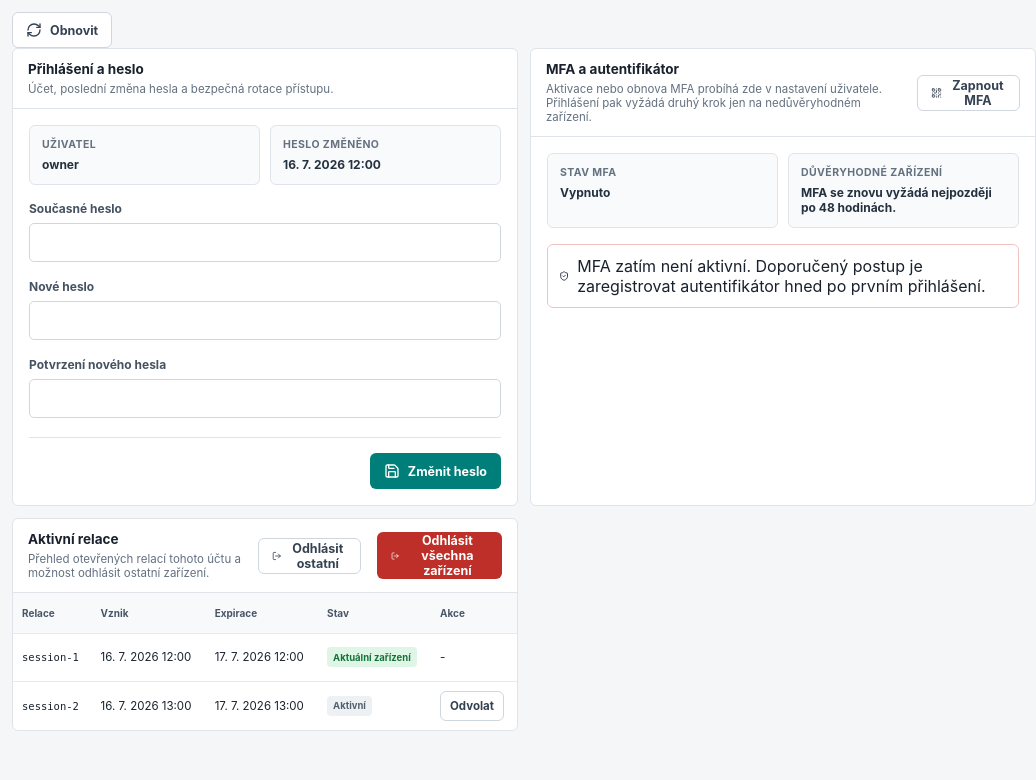
Test: admin pages › shows feedback when revoke-all sessions fails
Step 1. Click the button "Odhlásit všechna zařízení" → [439, 556], box [376,532,502,579]
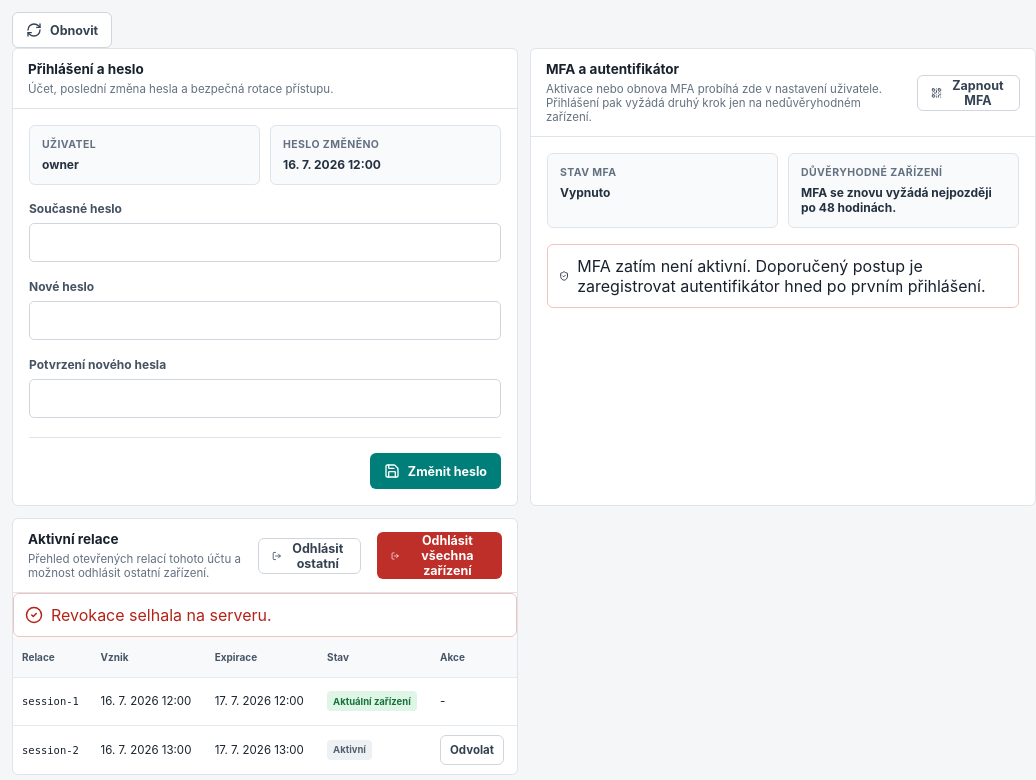
Now the text "Revokace selhala na serveru." is shown once, box [51,605,272,625]
